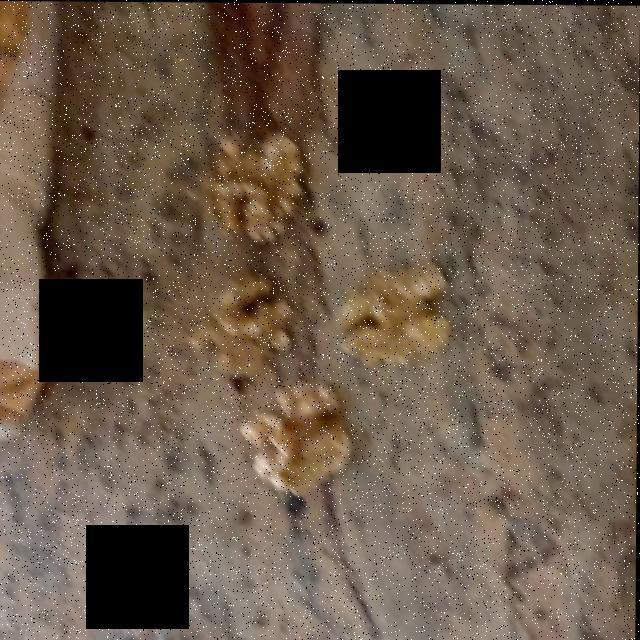walnut: (177, 139, 461, 511)
